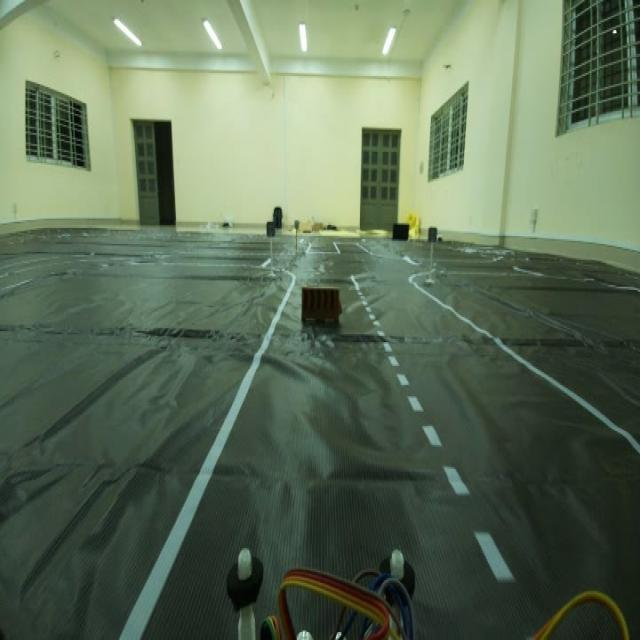roadblock: (300, 274, 346, 331)
